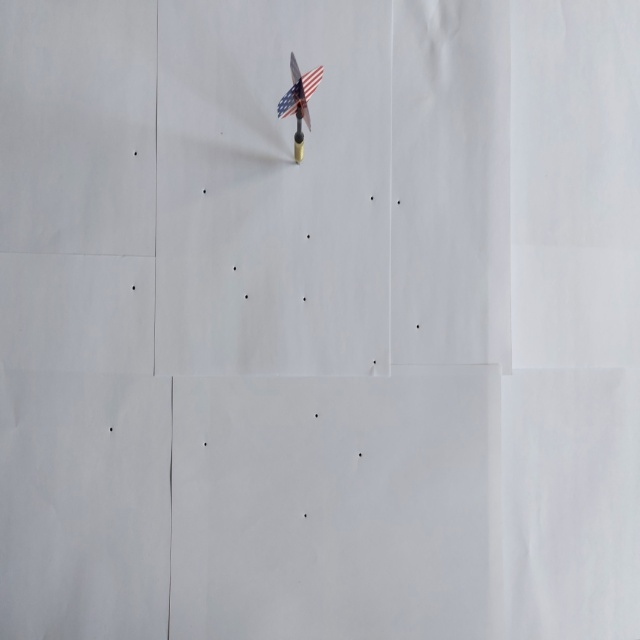Dart: (269, 48, 334, 172)
